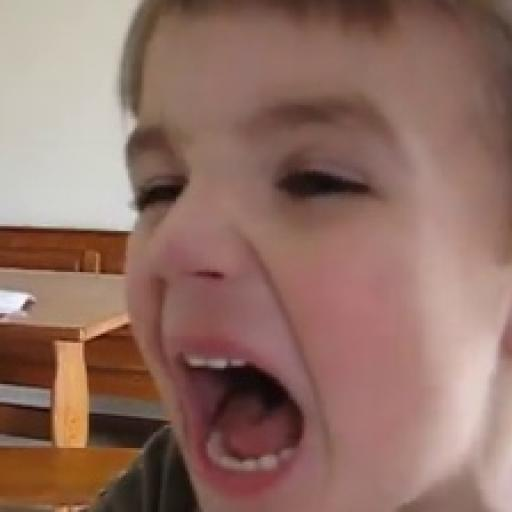Autism: (102, 0, 512, 507)
